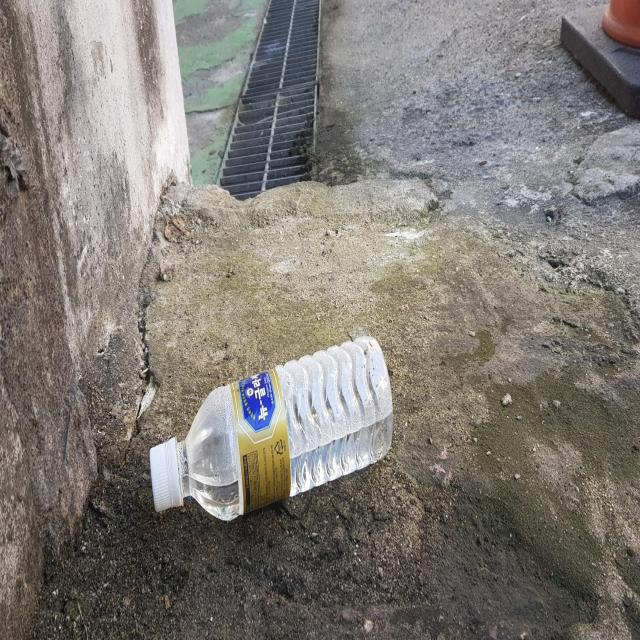plastic: (149, 335, 393, 521)
